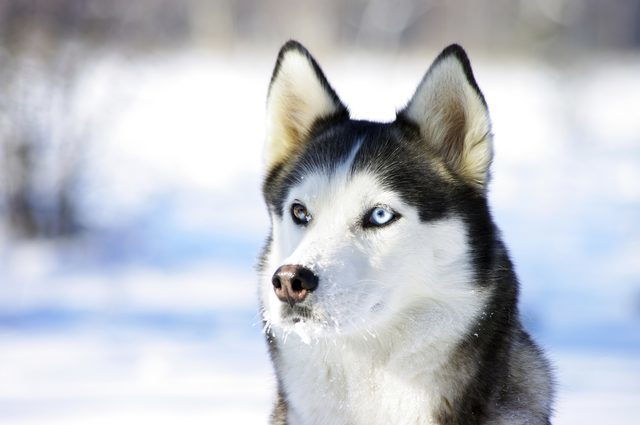husky: (236, 31, 558, 423)
